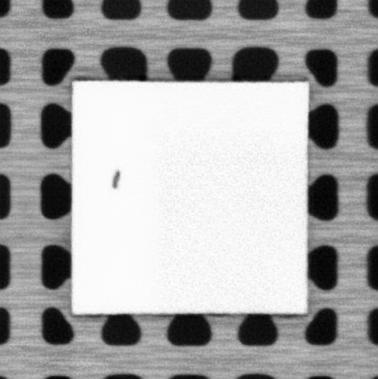DIE_INK: (111, 168, 121, 190)
